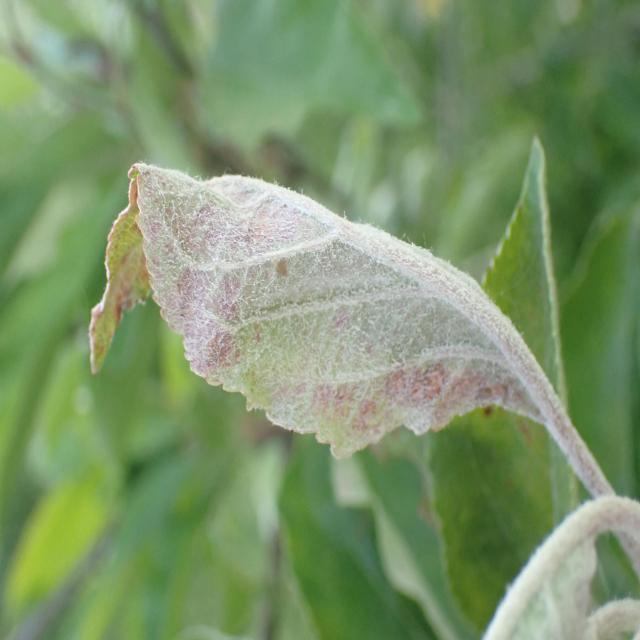Powdery_mildew: (72, 135, 549, 478), (448, 490, 640, 640)
